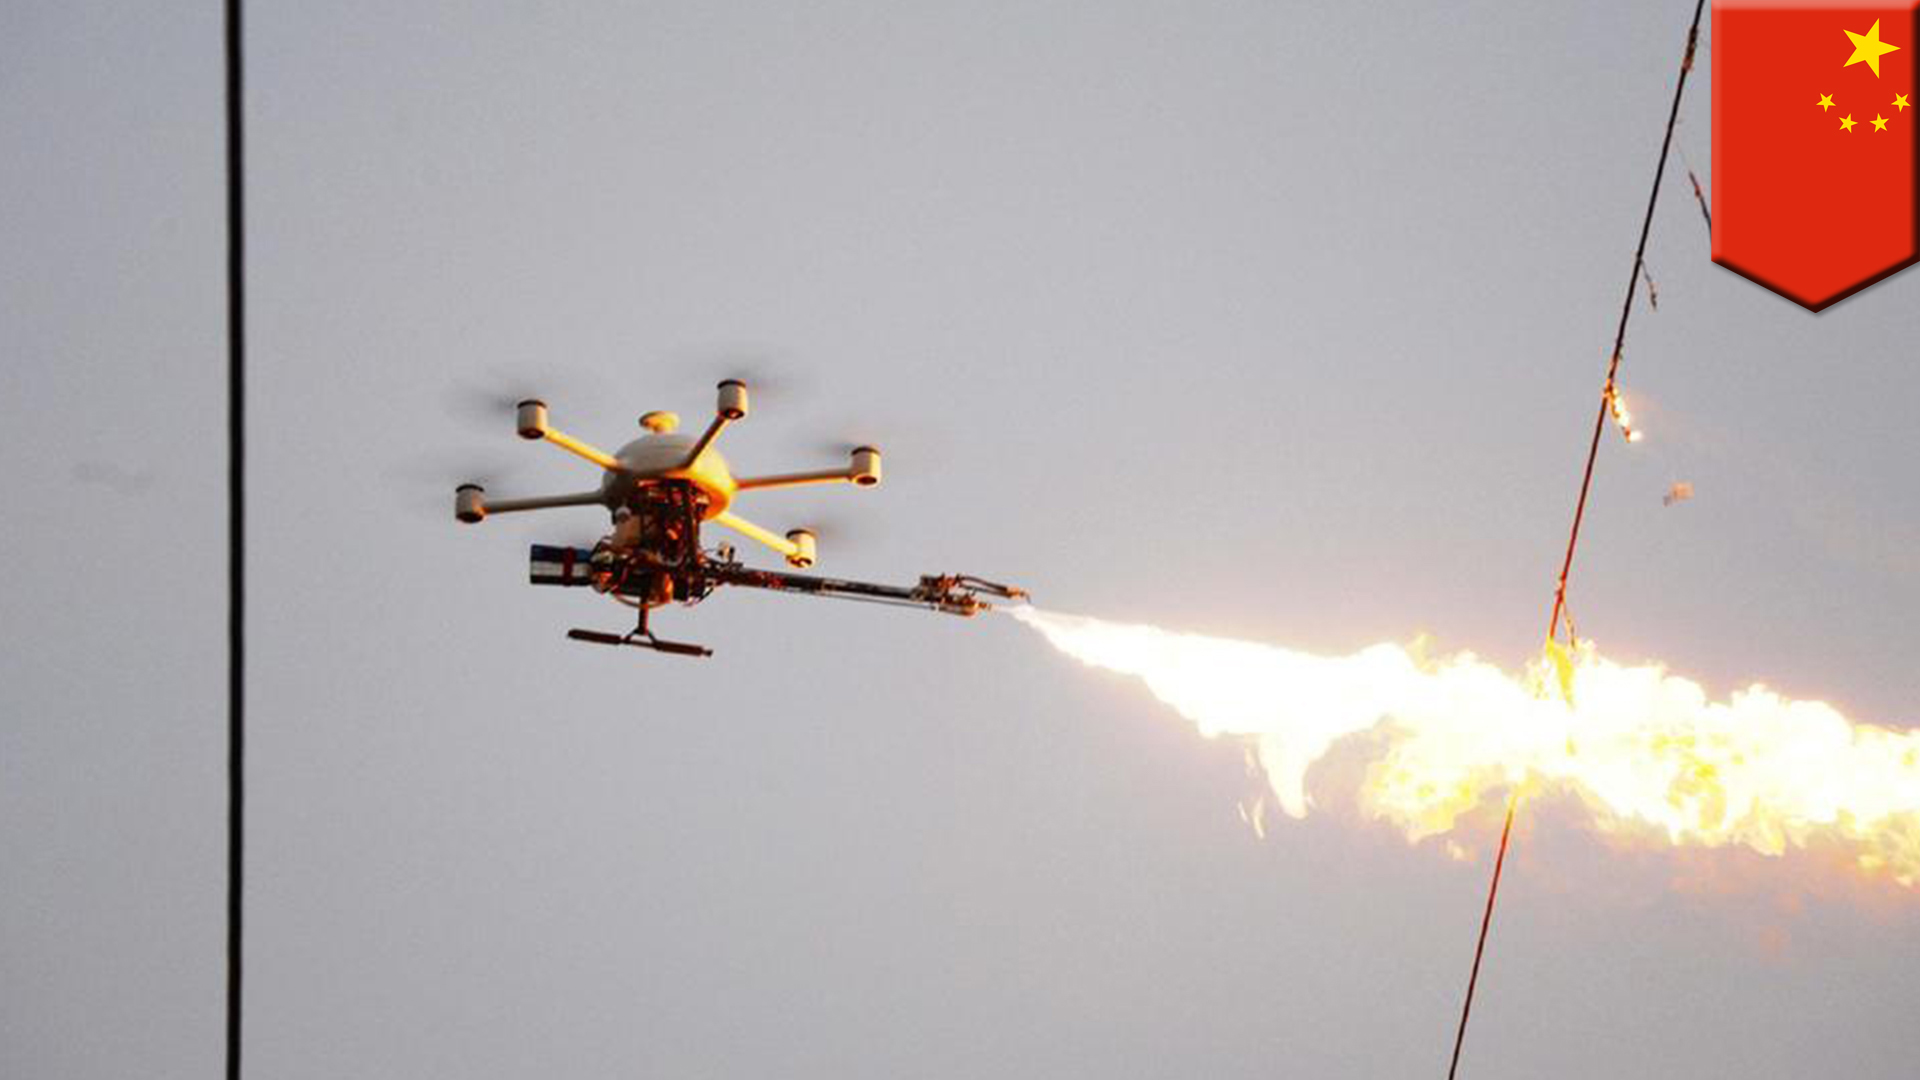drone: (386, 348, 1087, 673)
